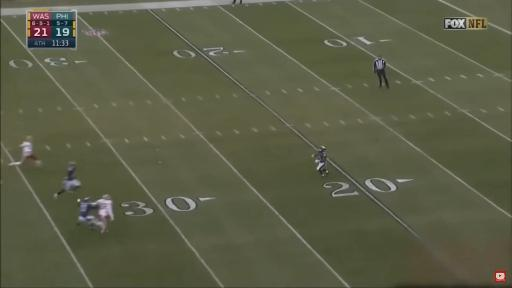Helmet: (320, 147, 326, 152)
Jersey: (96, 199, 113, 219), (79, 201, 93, 218), (66, 166, 76, 181), (21, 142, 32, 155), (317, 151, 326, 162)
Player: (54, 162, 81, 198), (9, 136, 41, 166), (77, 198, 102, 229), (96, 195, 114, 232), (312, 147, 328, 176)
